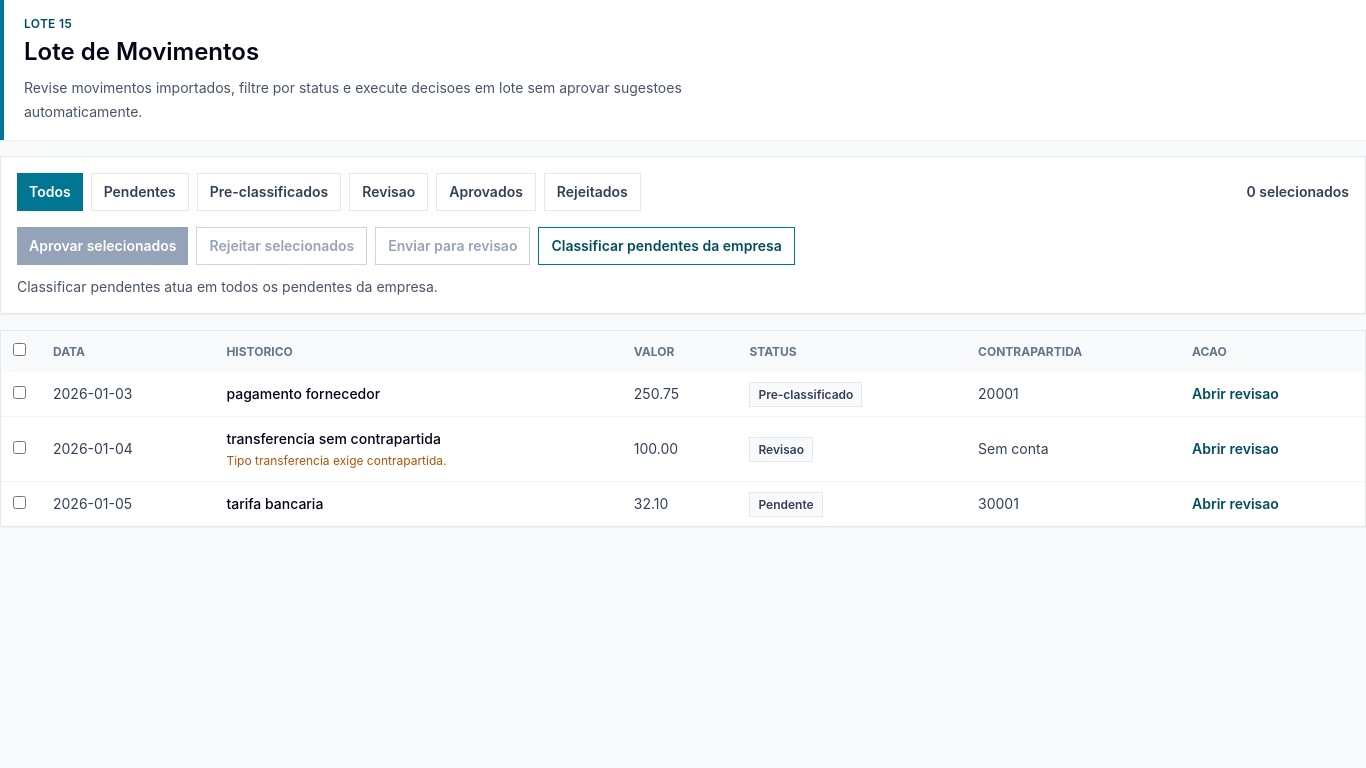
Test: LoteMovimentosPage › seleciona movimentos, aprova elegiveis e navega para revisao individual
Click the checkbox named "Selecionar movimento 91" at {"x": 20, "y": 392}, box [13,386,26,399]
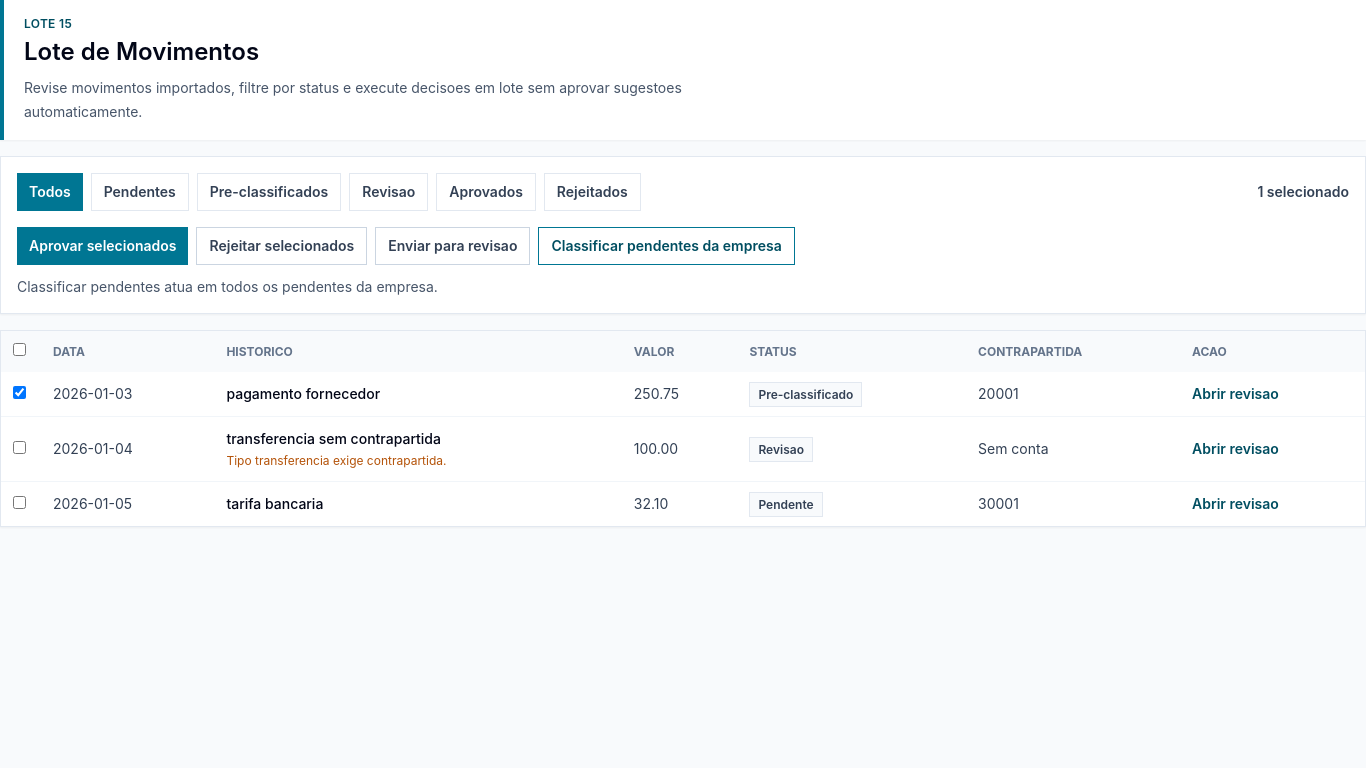
Result: the text "1 selecionado" is shown at [1257,182,1349,202]
Click the button "Aprovar selecionados" at {"x": 103, "y": 246}, box [17,227,188,265]
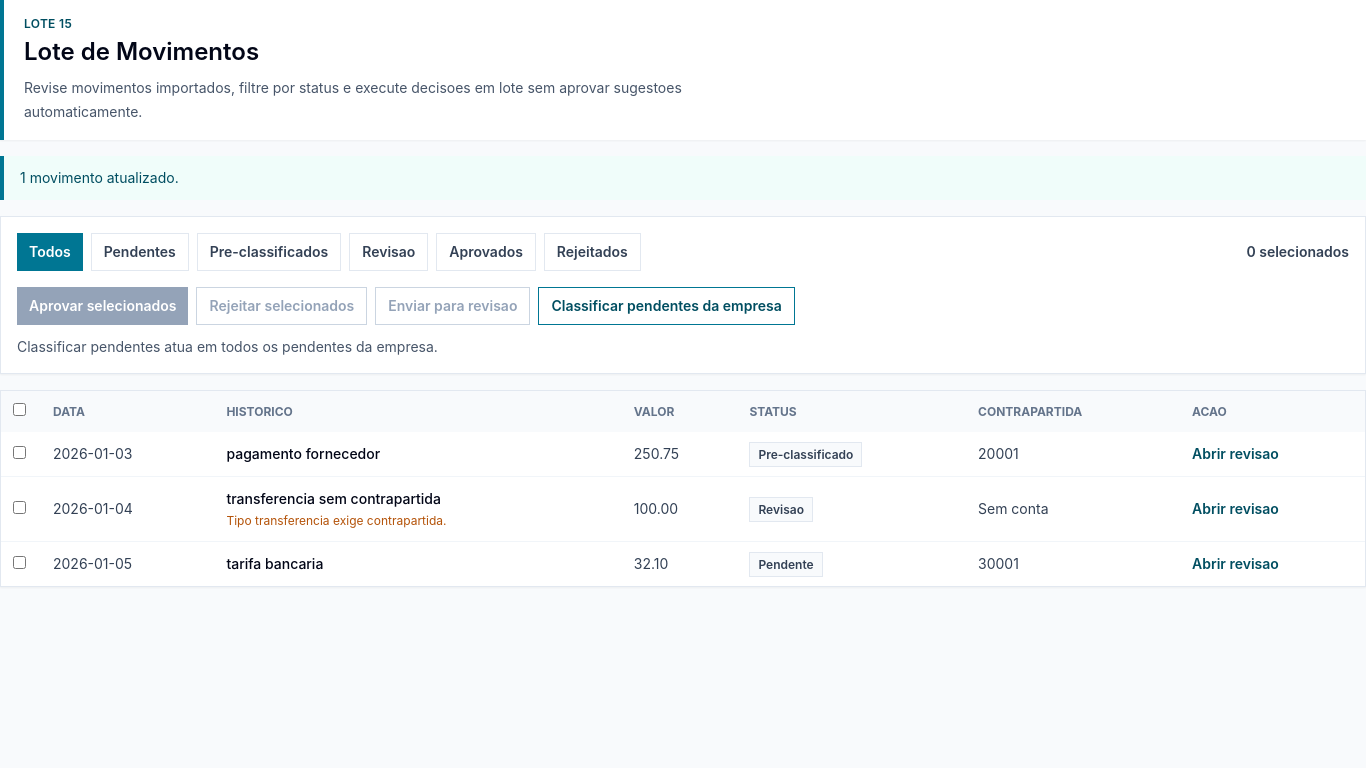
Result: the message reads "1 movimento atualizado." at [20,169,179,186]
Click the link "Abrir revisao" in the row of "2026-01-03" at {"x": 1235, "y": 454}, box [1192,445,1279,462]
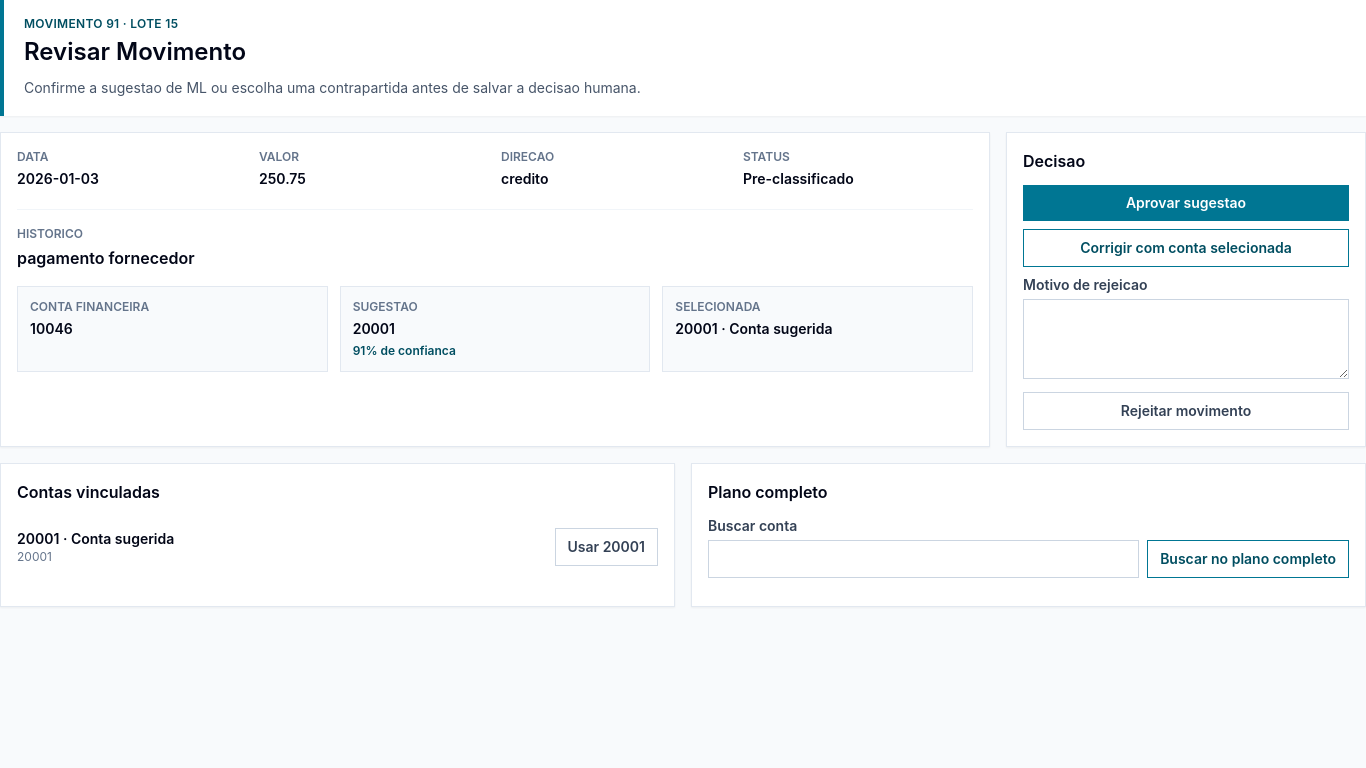
Result: the heading "Revisar Movimento" is shown at [24,37,246,66]
